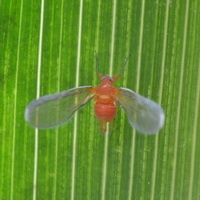insect: (25, 72, 164, 134)
